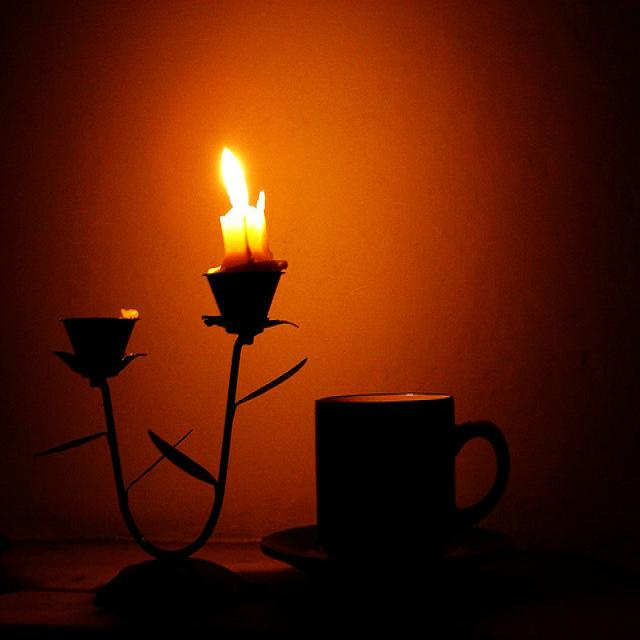Cup: (309, 367, 517, 602)
